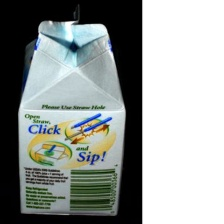carton: (14, 4, 131, 216)
